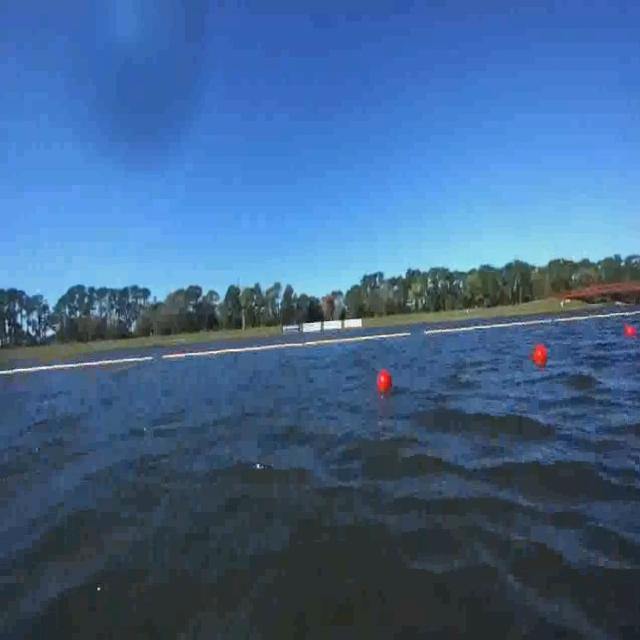red-buoy: (533, 344, 547, 368), (378, 370, 392, 393), (626, 325, 638, 337)
